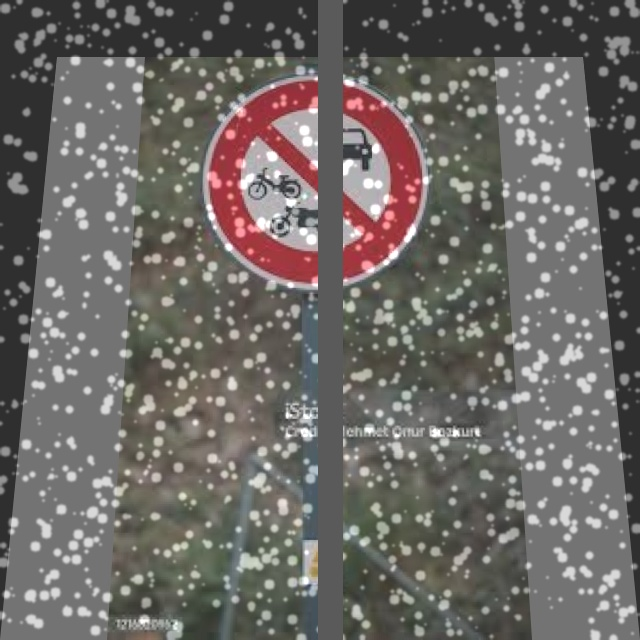All_Motor_Vehicles_Prohibited: (197, 71, 429, 288)
